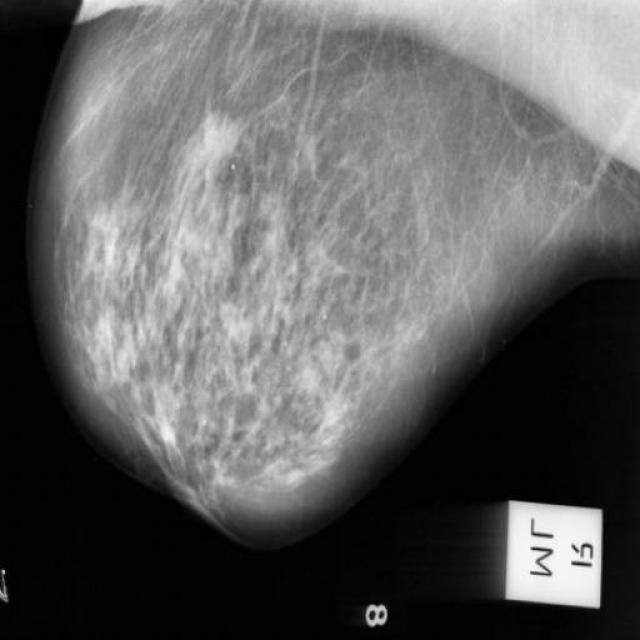cancer: (178, 84, 252, 186)
